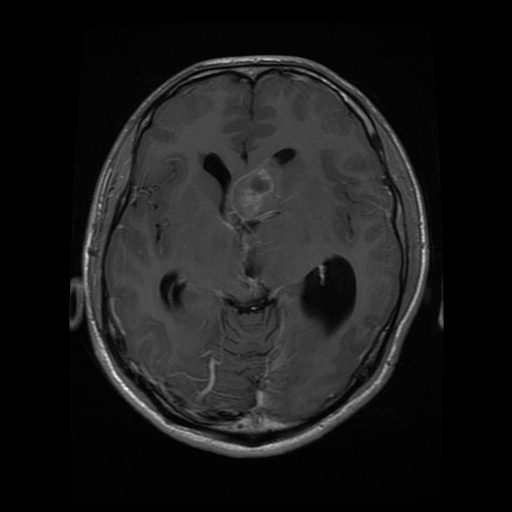glioma: (226, 156, 290, 226)
